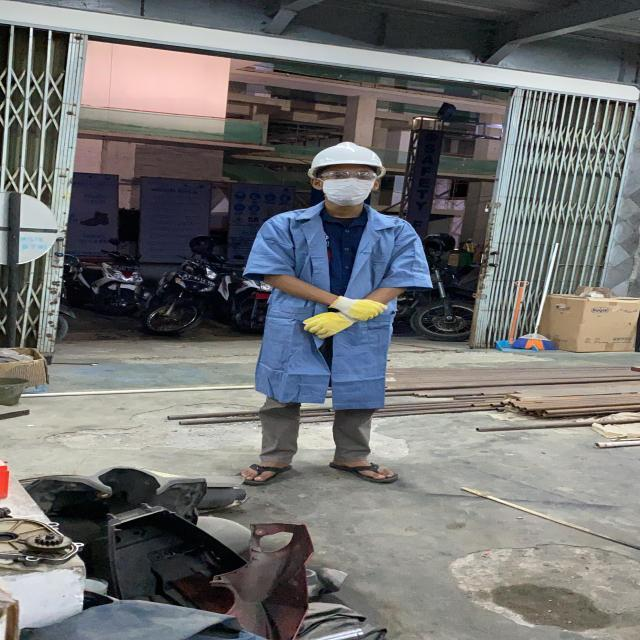glasses: (316, 169, 382, 183)
